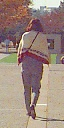person: (16, 16, 51, 121)
